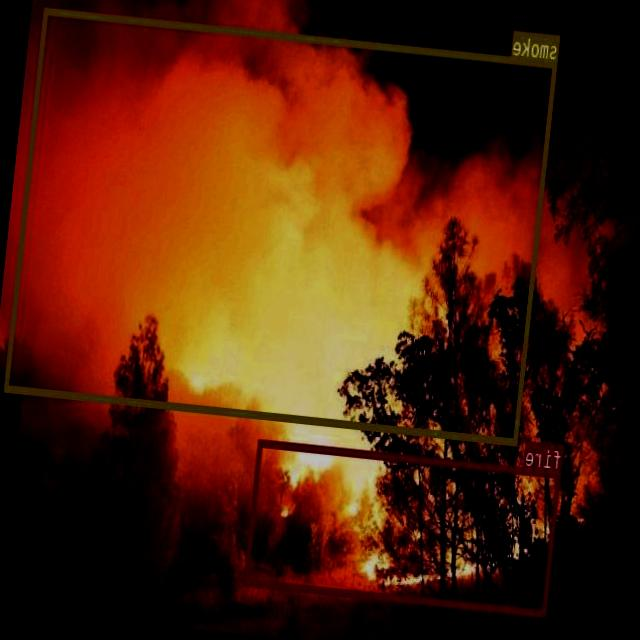fire: (243, 439, 562, 616)
smoke: (4, 7, 558, 444)
